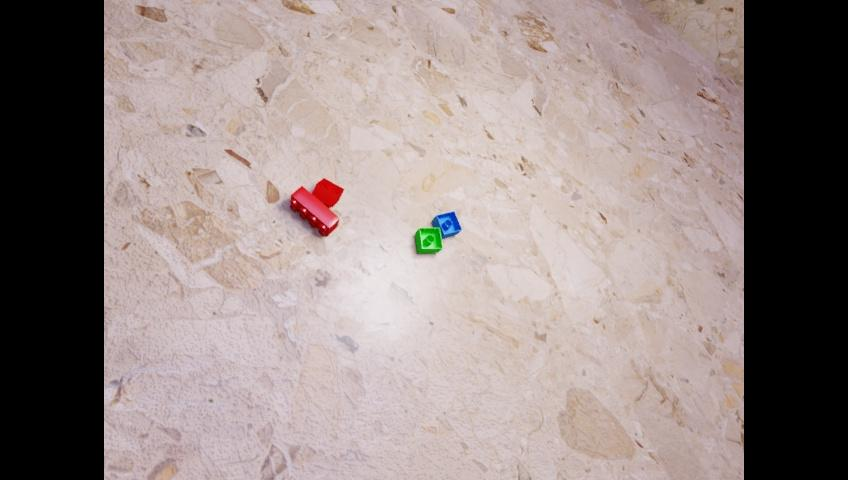2x2_blue: (432, 211, 462, 239)
2x2_green: (415, 227, 442, 252)
2x2_red: (311, 177, 343, 207)
4x2_red: (290, 185, 339, 236)
